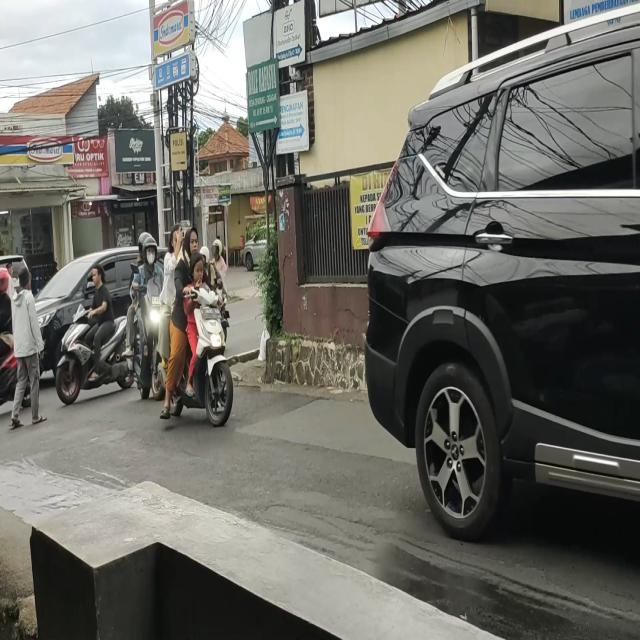helmet: (142, 240, 158, 266), (213, 240, 222, 259), (200, 248, 210, 262)
no-helmet: (184, 225, 198, 256), (170, 222, 183, 252), (194, 257, 203, 284)
